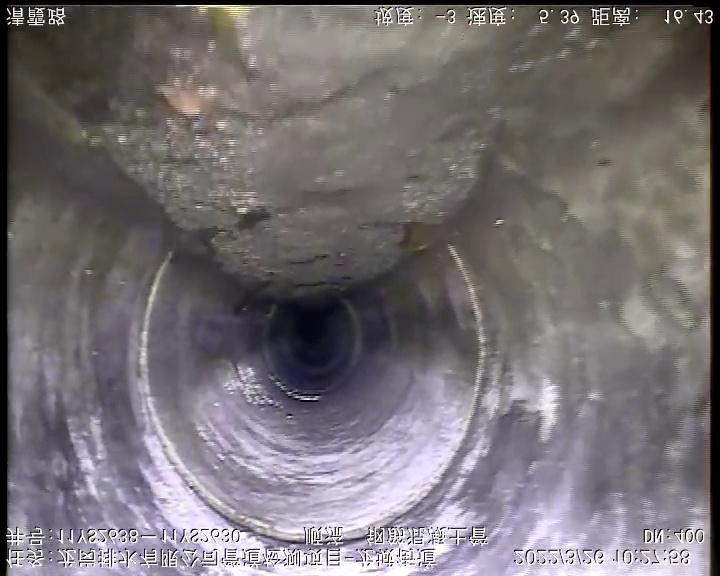CJ: (52, 7, 647, 301)
CKTJ: (130, 237, 496, 551)
